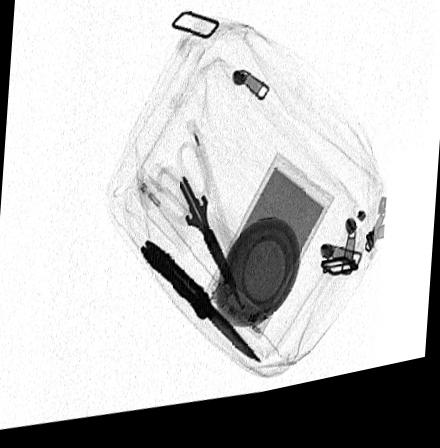Knife: (136, 241, 266, 378)
Powerbank: (203, 161, 336, 354)
Scissors: (149, 147, 244, 326)
